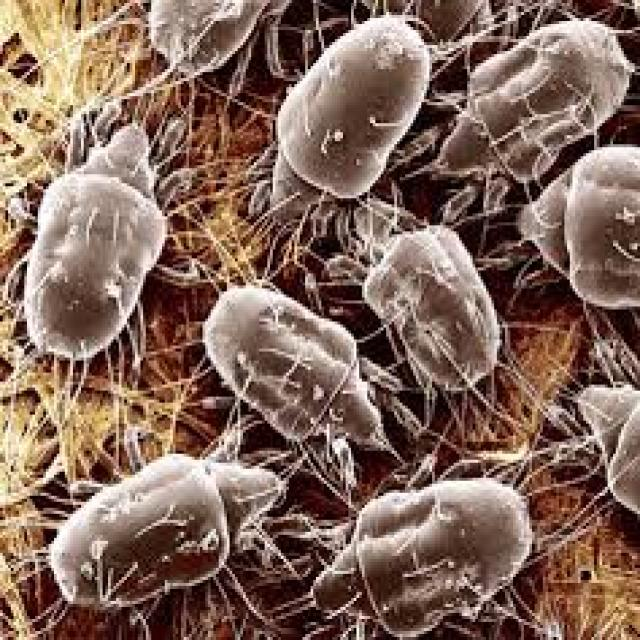Mites: (306, 459, 547, 640), (29, 458, 287, 626), (0, 114, 178, 354), (234, 12, 426, 218), (334, 202, 525, 400), (436, 7, 635, 197), (196, 273, 393, 463), (506, 144, 640, 320), (140, 0, 290, 98)
